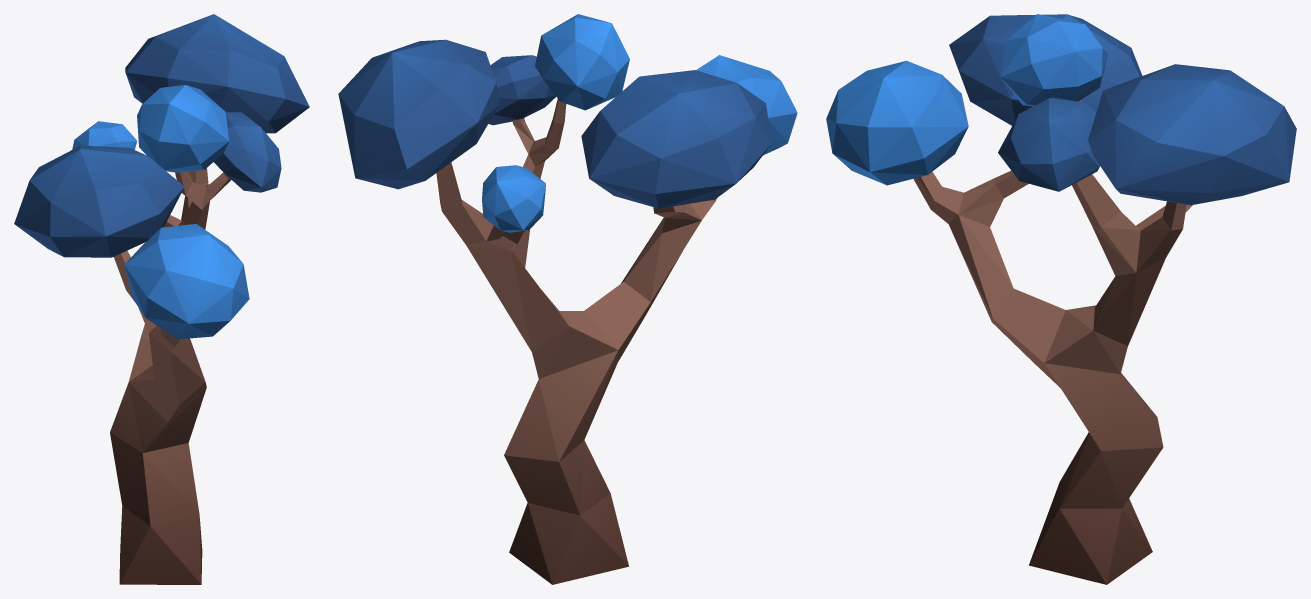
The model's file is BlueTree4.fbx.
3 views of the same model, side by side, from view 1: azimuth 30°, elevation 25°; view 2: azimuth 150°, elevation 25°; view 3: azimuth 270°, elevation 25° (orthographic). The views are drawn at different scales.
Visible parts, largest first — view 1: BlueTree4; view 2: BlueTree4; view 3: BlueTree4.
Boxes of the visible parts, x1,y1,x2,y2 form: BlueTree4: (14, 14, 309, 584); BlueTree4: (338, 14, 797, 584); BlueTree4: (826, 14, 1296, 584).
Bounding box in the file's own units: 285 × 429 × 337.
